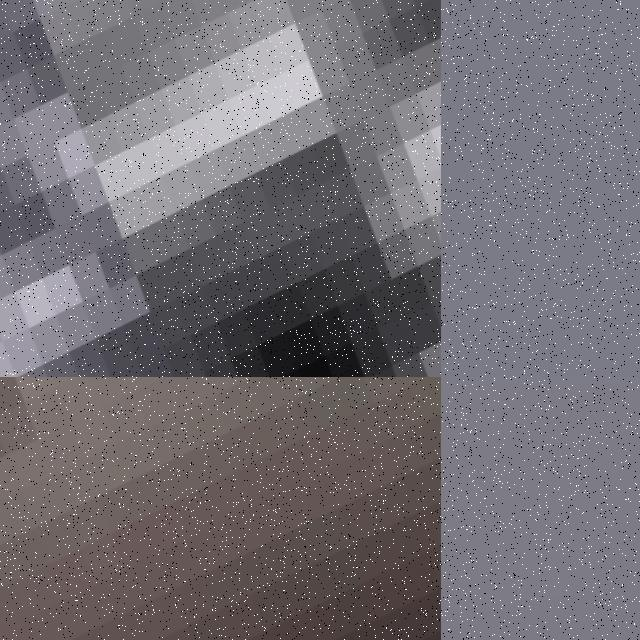0: (0, 0, 441, 377)
drone: (0, 377, 441, 640)
